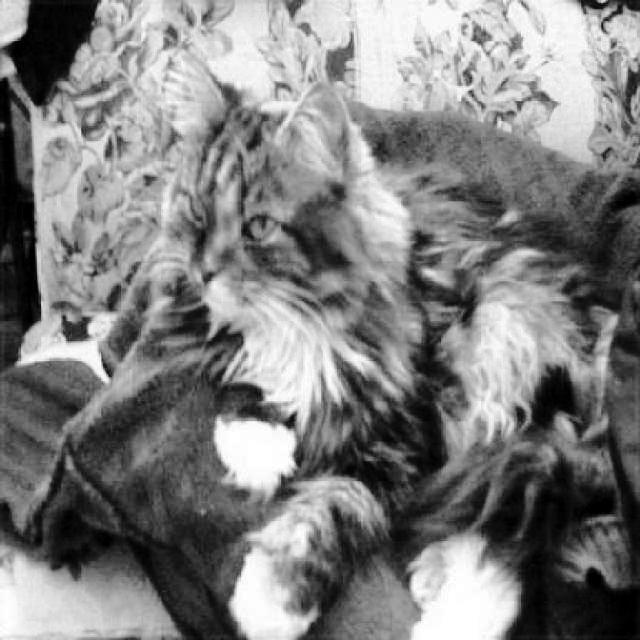Cat: (147, 46, 618, 640)
